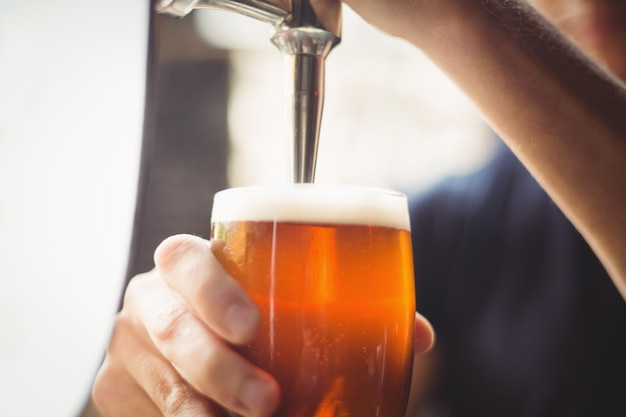alcohol: (209, 183, 415, 417)
